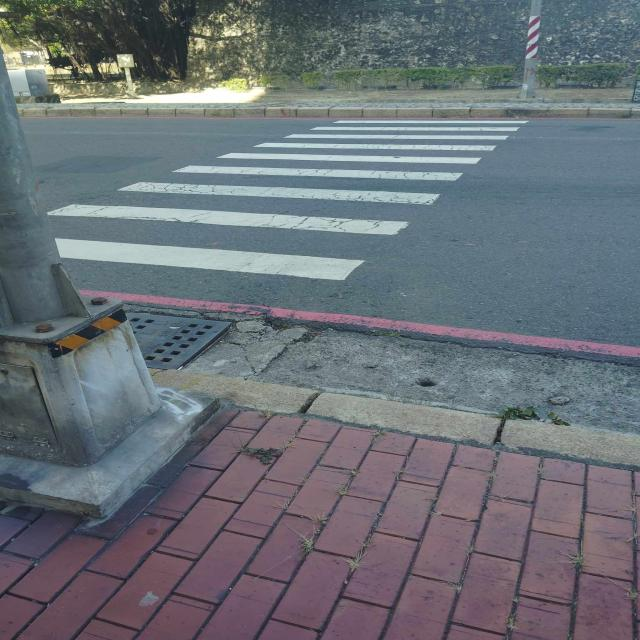zebra crossing: (44, 120, 528, 280)
